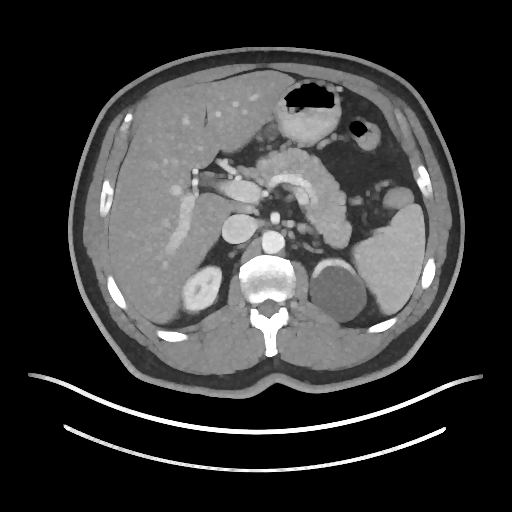Lesion: (306, 262, 376, 325)
